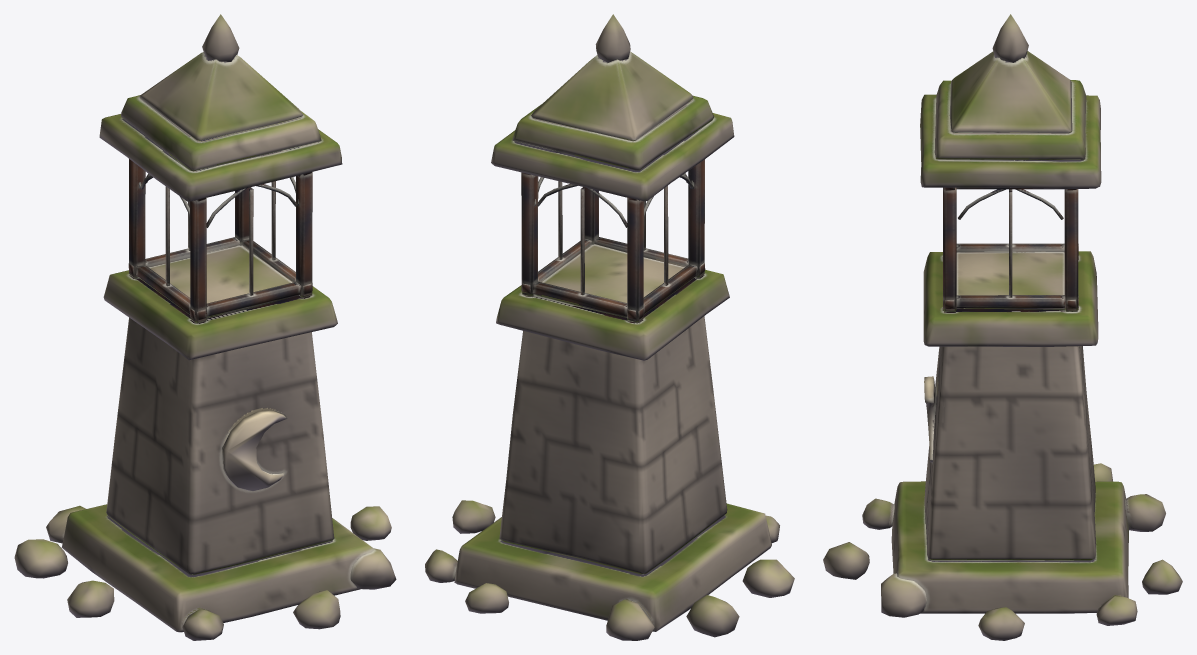
File: moon_lantern.glb
3 views of the same model, side by side, from view 1: azimuth 30°, elevation 25°; view 2: azimuth 150°, elevation 25°; view 3: azimuth 270°, elevation 25° (orthographic).
Visible parts, largest first — view 1: moon_lantern; view 2: moon_lantern; view 3: moon_lantern.
Part boxes in pixels (bbox=[...]): moon_lantern: bbox=[14, 14, 396, 640]; moon_lantern: bbox=[425, 14, 794, 640]; moon_lantern: bbox=[823, 14, 1182, 640].
Size of the model in its own units: 1.23 by 2 by 1.18.
1 material, 1 textured.
